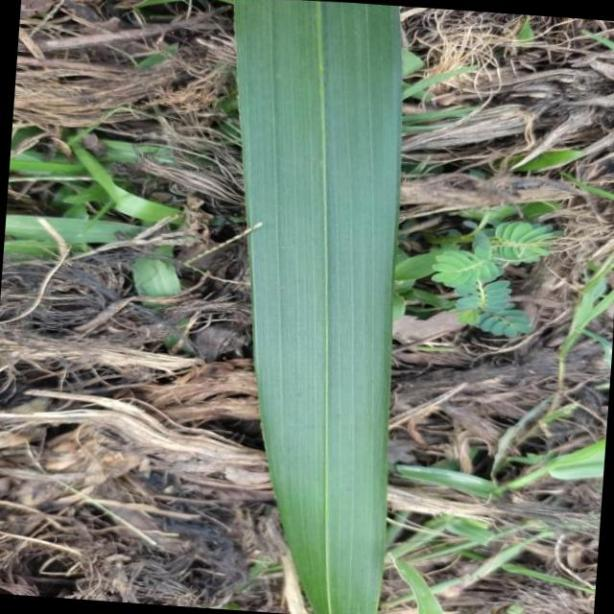Healthy: (230, 0, 419, 614)
